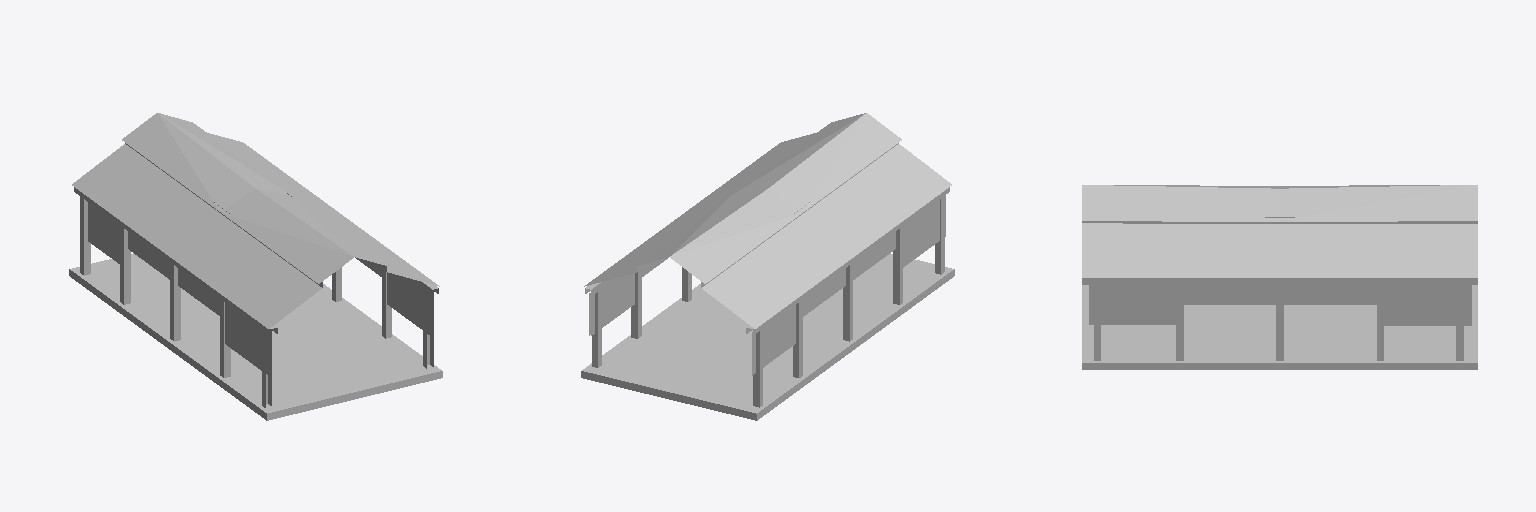
Rendered from harbor_shed_02_lod0.obj.
The picture shows the model from 3 angles: view 1: azimuth 30°, elevation 25°; view 2: azimuth 150°, elevation 25°; view 3: azimuth 270°, elevation 25°; orthographic projection.
Size of the model in its own units: 1.12 by 0.865 by 2.17.